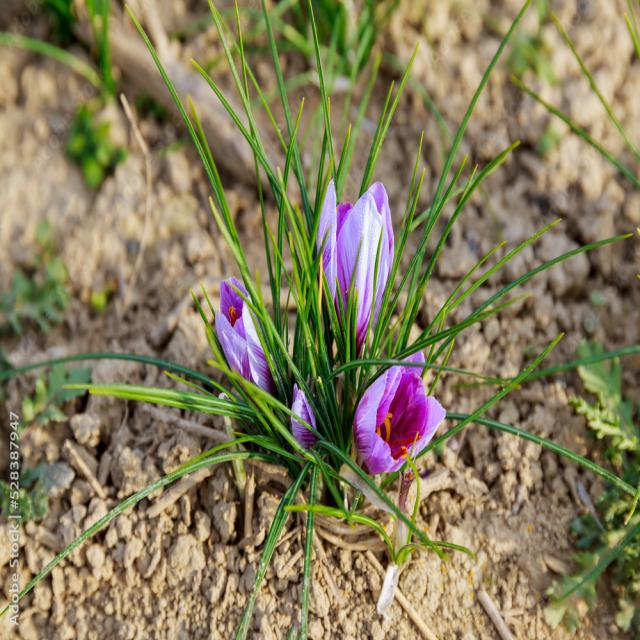saffron open: (318, 180, 394, 356), (355, 365, 446, 474), (215, 277, 276, 395)
